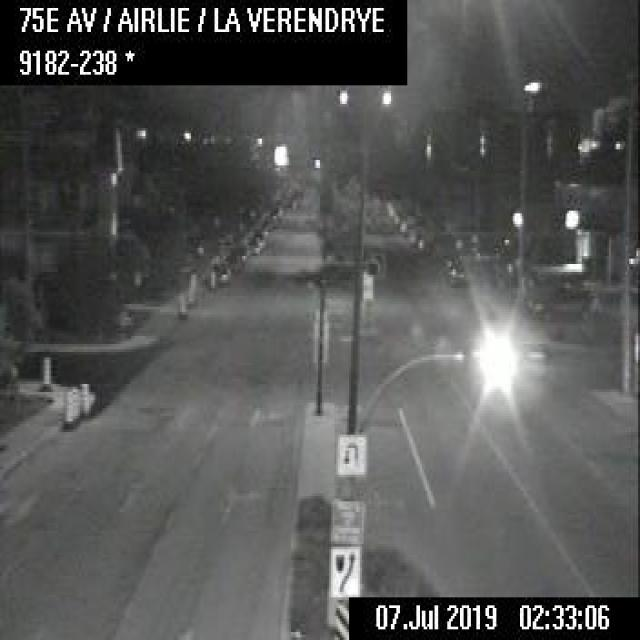construction: (174, 280, 186, 312), (40, 351, 50, 387), (62, 388, 71, 427), (70, 384, 80, 418), (79, 380, 89, 414), (188, 267, 196, 301), (205, 264, 213, 285)
vehicle: (526, 282, 601, 321), (446, 261, 465, 280), (211, 262, 229, 282), (417, 236, 435, 254), (250, 232, 264, 248), (245, 236, 258, 253)
